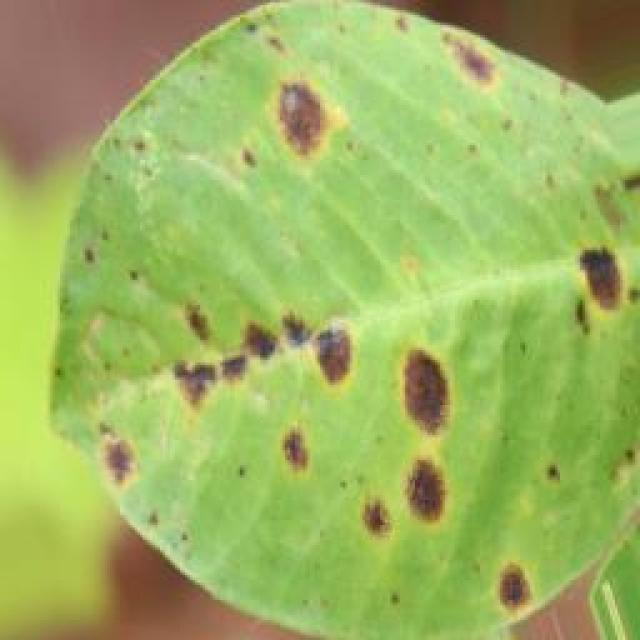Yellowish: (75, 32, 640, 622)
